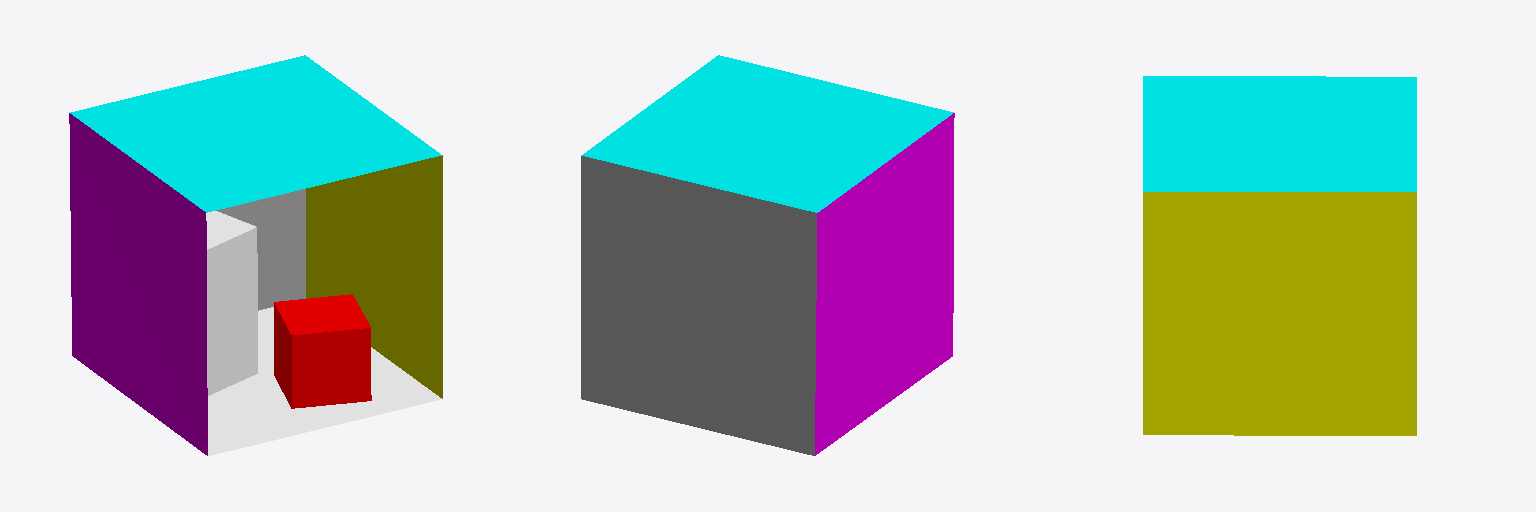
Rendered from textured-cornell-box.obj.
3 views of the same model, side by side, from view 1: azimuth 30°, elevation 25°; view 2: azimuth 150°, elevation 25°; view 3: azimuth 270°, elevation 25° (orthographic).
Parts seen in each view (by area): view 1: left_wall, ceiling, right_wall, floor, short_box, tall_box, back_wall; view 2: back_wall, left_wall, ceiling; view 3: right_wall, ceiling.
Part boxes in pixels (x1,y1,x2,y2): left_wall: (69, 113, 207, 455); ceiling: (70, 55, 441, 212); right_wall: (306, 155, 442, 398); floor: (208, 307, 441, 455); short_box: (274, 294, 371, 408); tall_box: (206, 211, 257, 395); back_wall: (216, 189, 305, 310); back_wall: (581, 156, 816, 455); left_wall: (815, 113, 954, 455); ceiling: (581, 55, 953, 212); right_wall: (1143, 192, 1416, 435); ceiling: (1143, 76, 1416, 191).
Size of the model in its own units: 5.56 by 5.49 by 5.6.